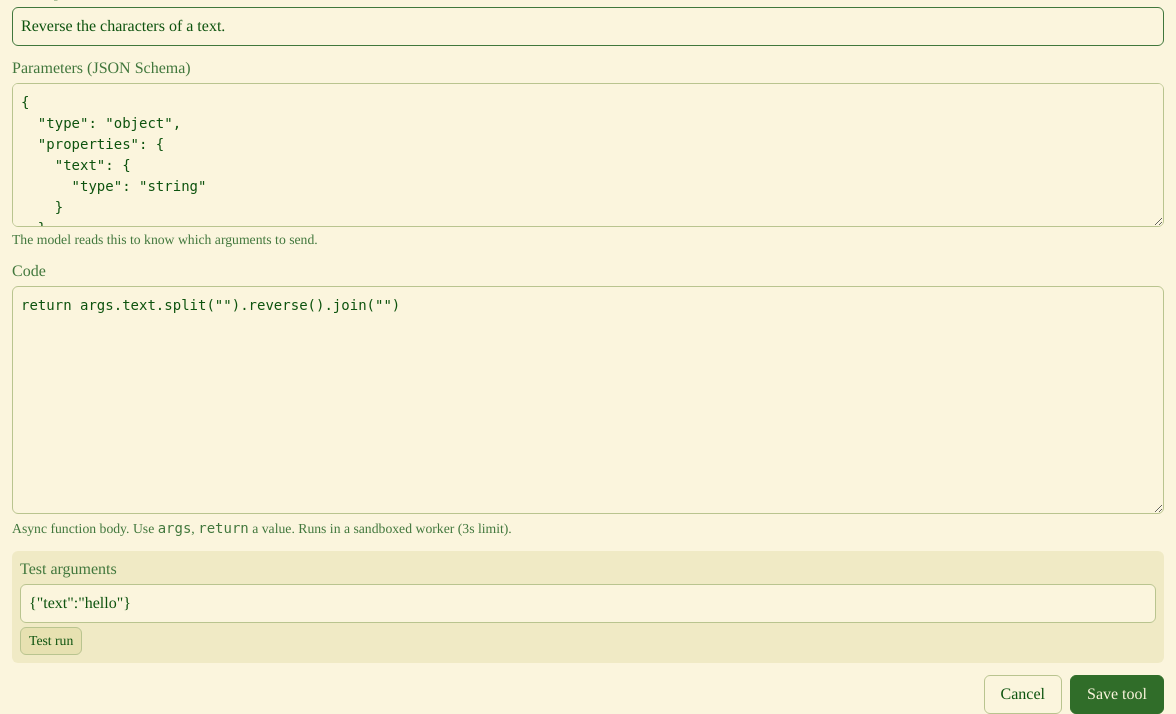
Test: test run shows errors
(page scrolled)
Click the button "Test run" at (51,641), box top-left (20, 627), bottom-right (82, 655)
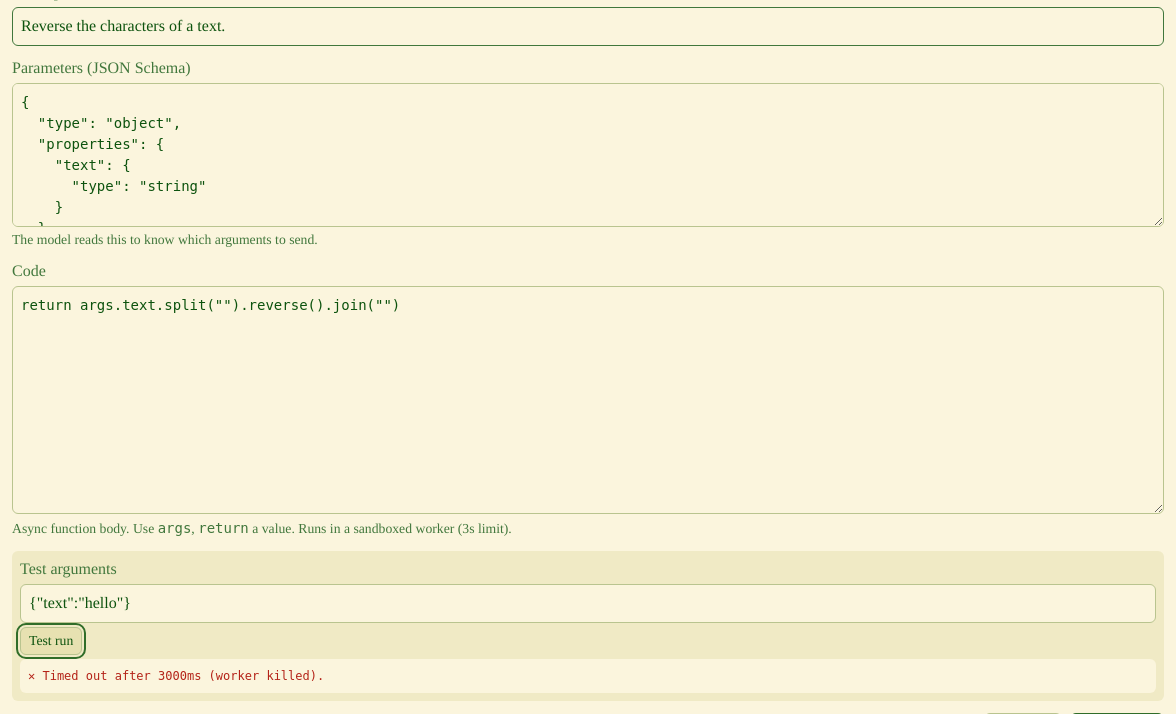
Result: the message shows "✕ Timed out" at top-left (28, 669), bottom-right (324, 683)
